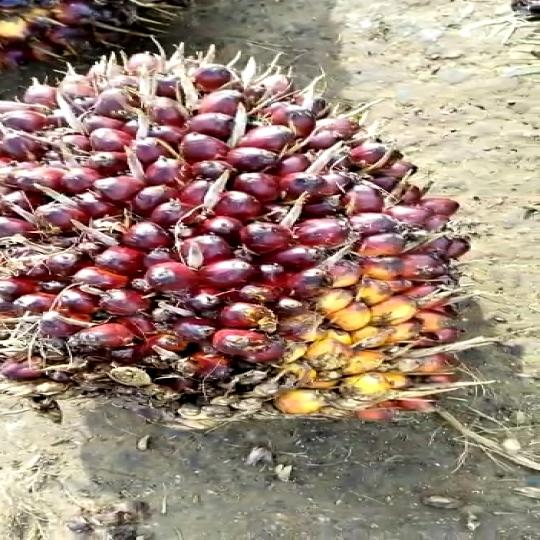kurang masak: (0, 47, 511, 478)
